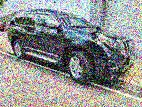car: (7, 9, 135, 82)
